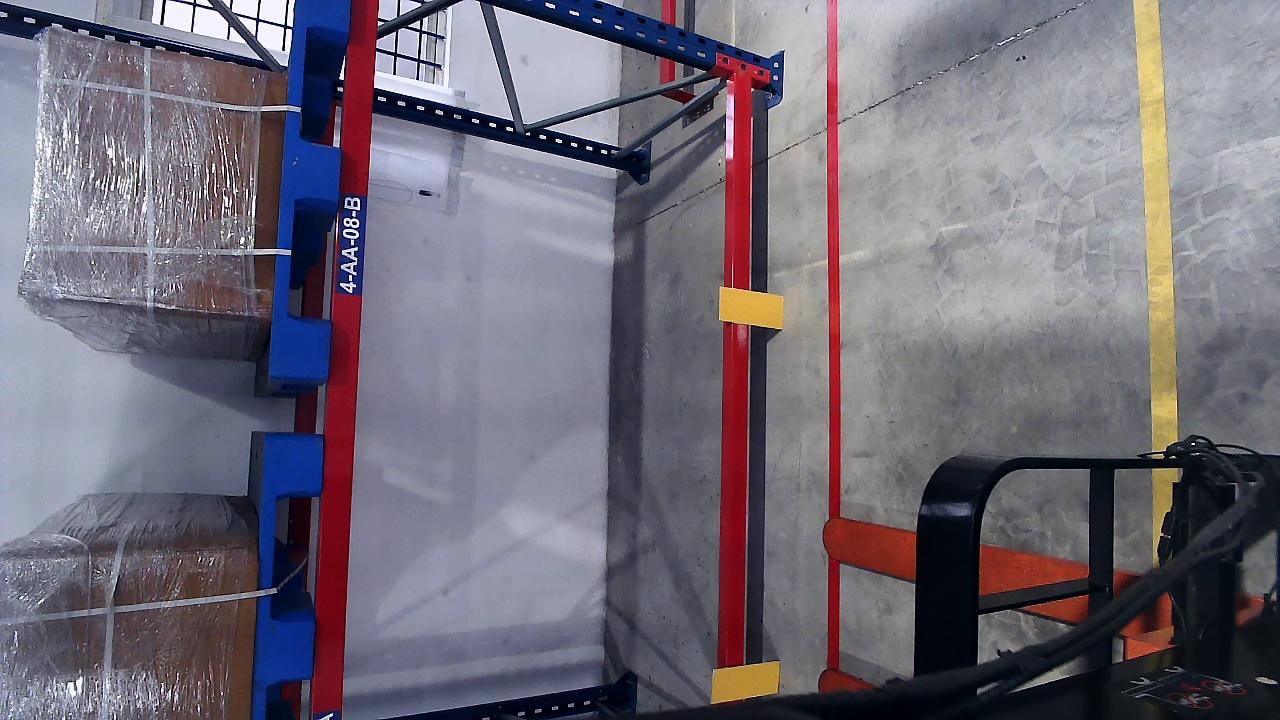h_rack: (315, 0, 380, 715), (719, 81, 758, 703)
orange_strip: (719, 285, 784, 328), (711, 660, 780, 700)
small_pallet: (272, 0, 349, 374), (259, 433, 323, 714)
yellow_line: (1133, 0, 1181, 452)
